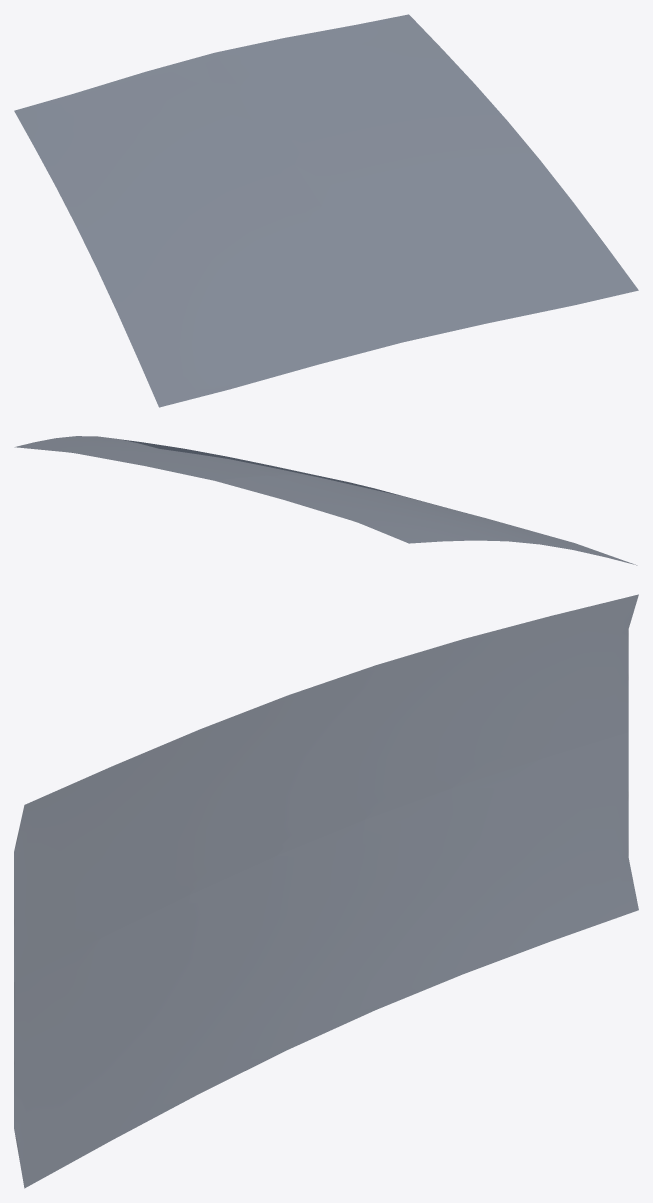
Rendered from rear_glass.glb.
The picture shows the model from 3 angles, top to bottom: view 1: azimuth 30°, elevation 25°; view 2: azimuth 150°, elevation 25°; view 3: azimuth 270°, elevation 25°; orthographic projection. The views are drawn at different scales.
Parts seen in each view (by area): view 1: GEO_Rear_Glass; view 2: GEO_Rear_Glass; view 3: GEO_Rear_Glass.
Boxes of the visible parts, <box> form: GEO_Rear_Glass: <box>14,14,638,407</box>; GEO_Rear_Glass: <box>14,436,637,565</box>; GEO_Rear_Glass: <box>14,594,638,1188</box>.
Size of the model in its own units: 1.3 by 0.4179 by 0.895.
